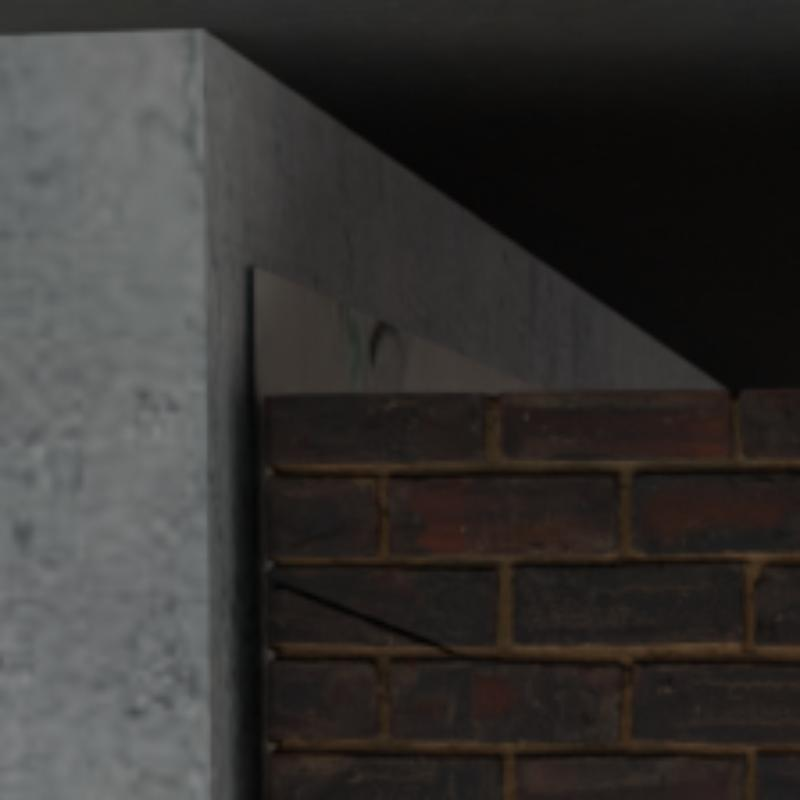pothole: (271, 582, 457, 657)
